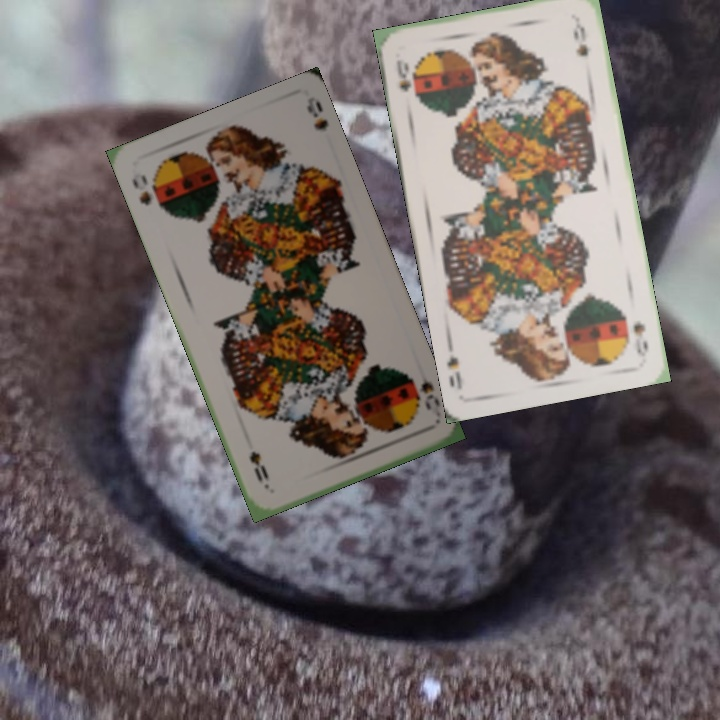SO: (403, 364, 443, 412), (392, 56, 419, 99), (128, 170, 154, 208), (629, 317, 651, 360)
